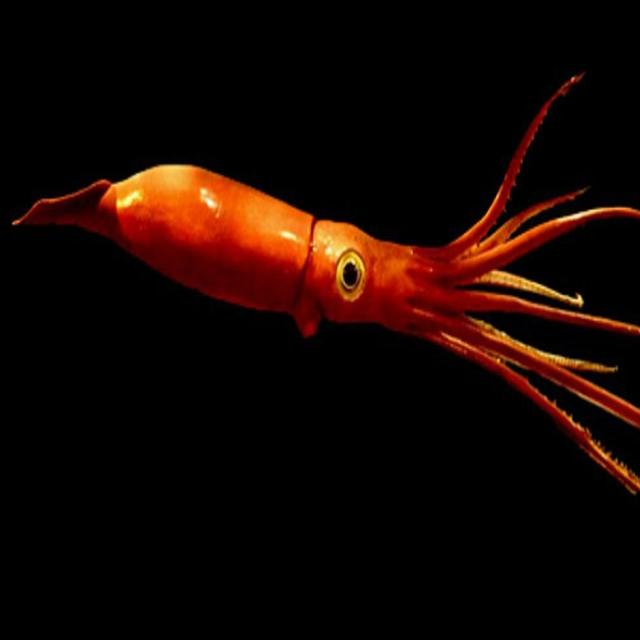squid: (13, 75, 639, 493)
